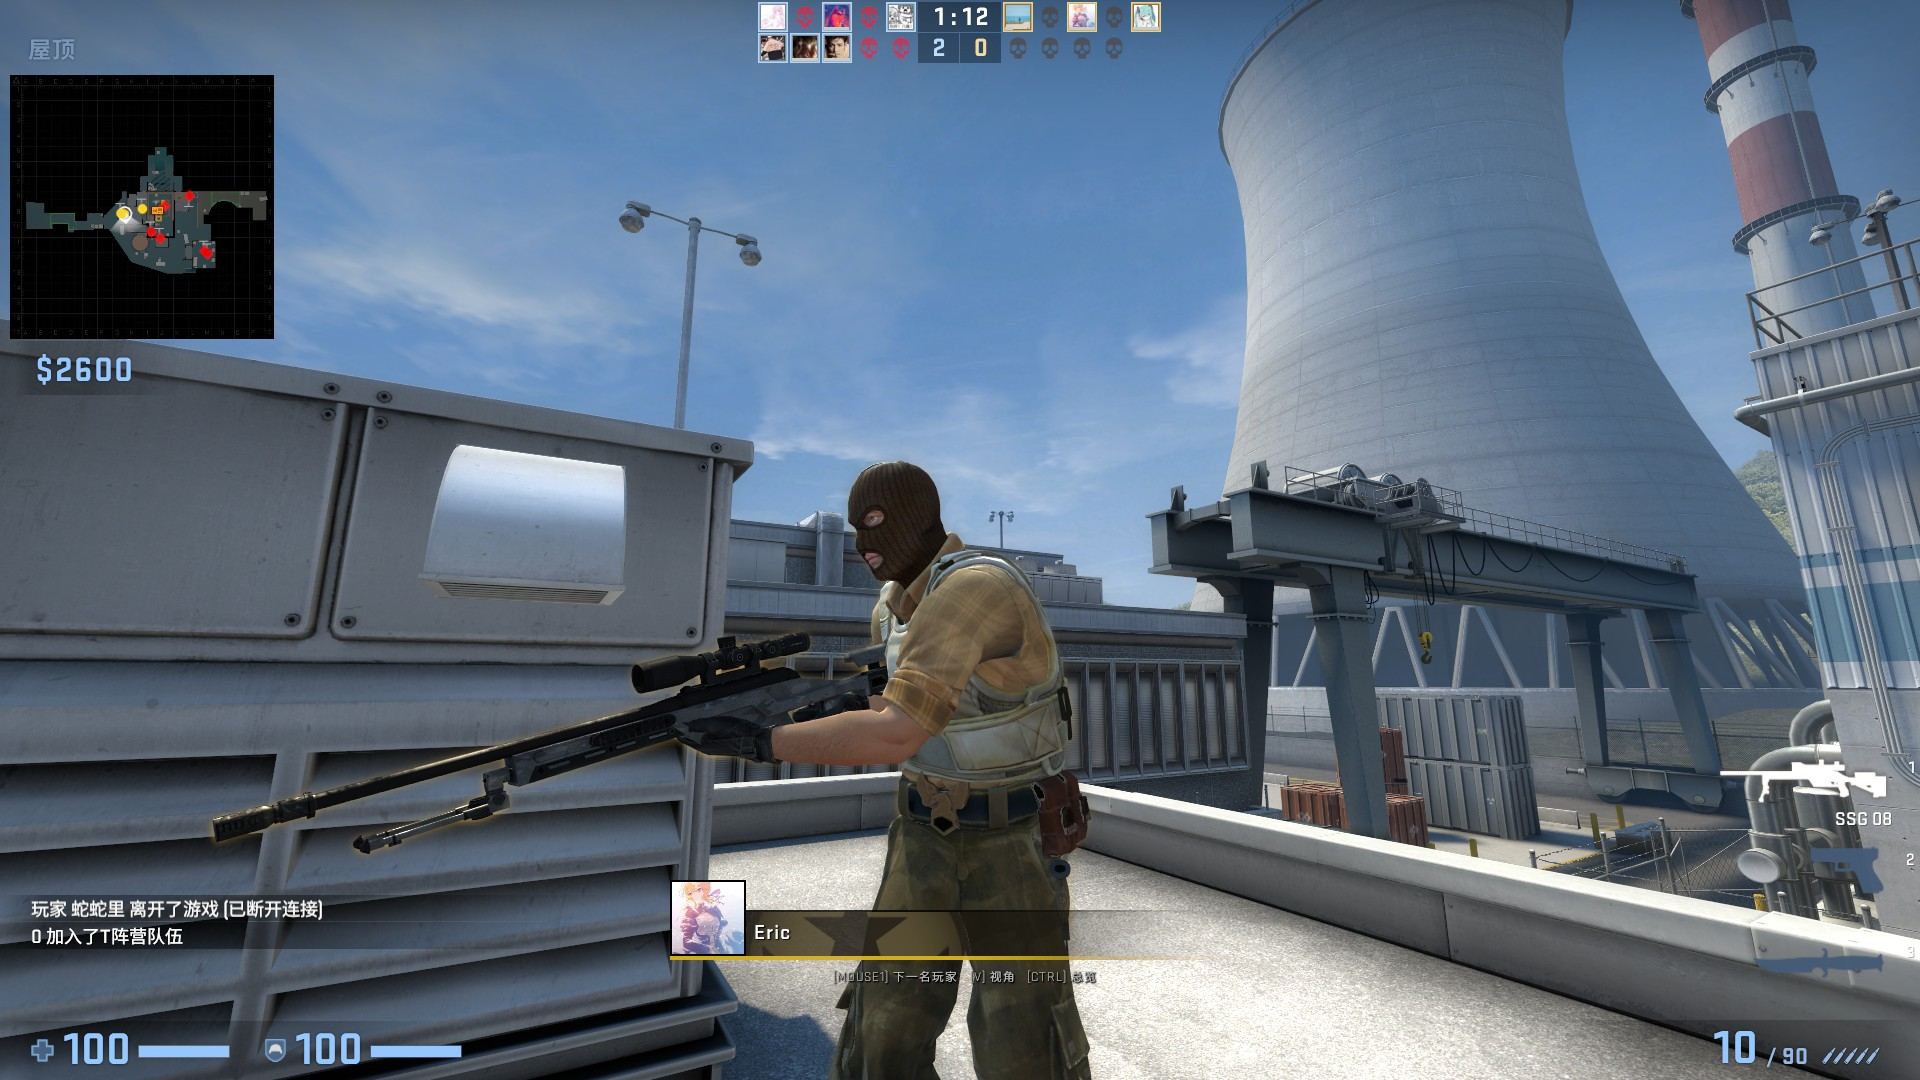head: (841, 457, 952, 579)
